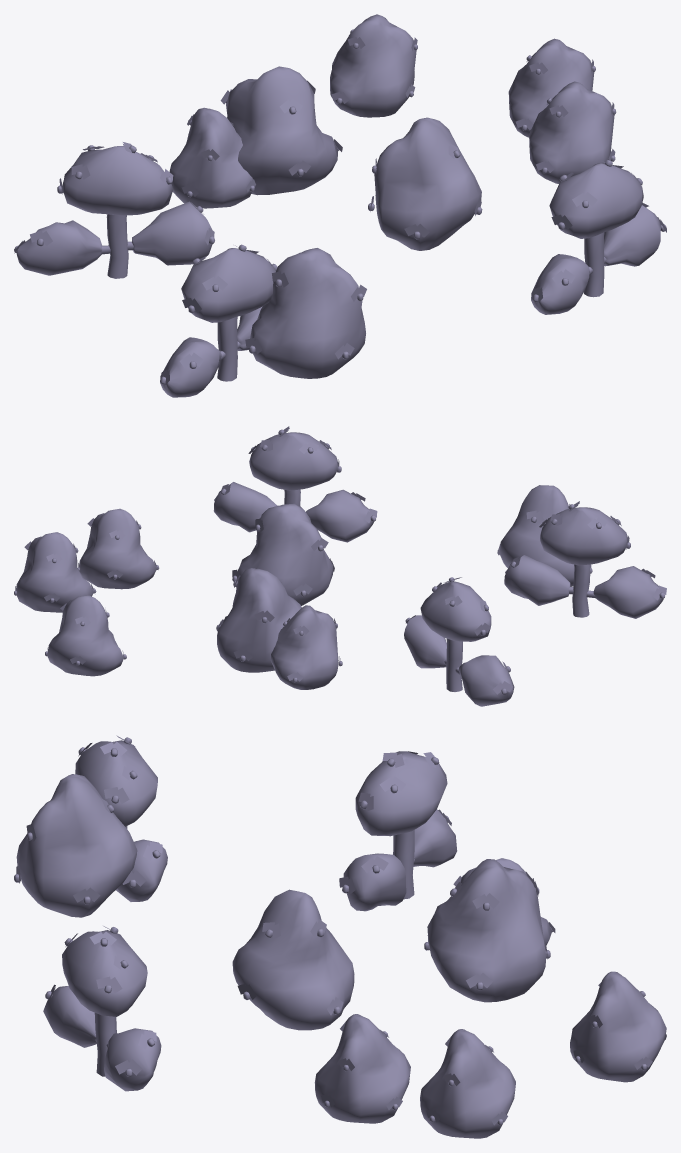
File: kysti.fbx
The picture shows the model from 3 angles, top to bottom: view 1: azimuth 30°, elevation 25°; view 2: azimuth 150°, elevation 25°; view 3: azimuth 270°, elevation 25°; orthographic projection. The views are drawn at different scales.
Parts seen in each view (by area): view 1: kysti; view 2: kysti; view 3: kysti.
Boxes of the visible parts, x1,y1,x2,y2 form: kysti: [14, 14, 666, 397]; kysti: [14, 426, 666, 706]; kysti: [14, 735, 666, 1138].
Size of the model in its own units: 1.5 by 0.3124 by 1.29.
